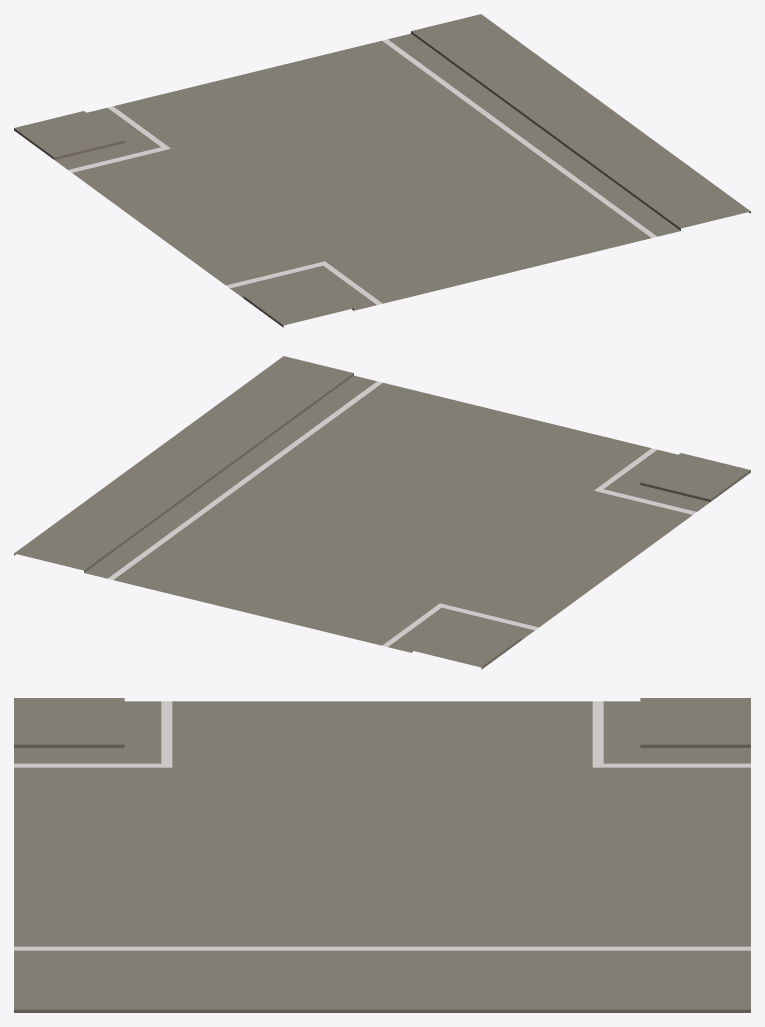
File: T-Cross.fbx
3 views of the same model, one above another, from view 1: azimuth 30°, elevation 25°; view 2: azimuth 150°, elevation 25°; view 3: azimuth 270°, elevation 25° (orthographic). The views are drawn at different scales.
Parts seen in each view (by area): view 1: T-Cross; view 2: T-Cross; view 3: T-Cross.
Boxes of the visible parts, x1,y1,x2,y2 form: T-Cross: (14, 14, 750, 327); T-Cross: (14, 356, 750, 669); T-Cross: (14, 698, 750, 1012).
Size of the model in its own units: 20 by 0.1 by 20.
